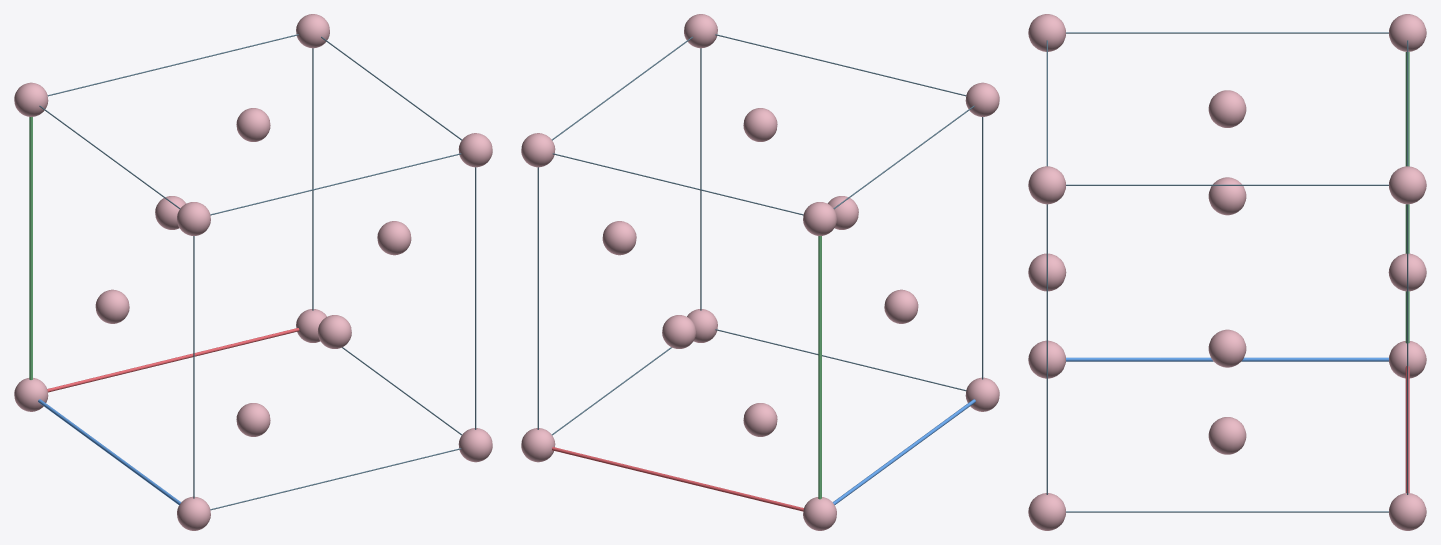
File: nguyen-to-sr.glb
3 views of the same model, side by side, from view 1: azimuth 30°, elevation 25°; view 2: azimuth 150°, elevation 25°; view 3: azimuth 270°, elevation 25° (orthographic). The views are drawn at different scales.
Visible parts, largest first — view 1: Sr · Sr · 1 (×14), Ô mạng và các trục a, b, c; view 2: Sr · Sr · 1 (×14), Ô mạng và các trục a, b, c; view 3: Sr · Sr · 1 (×14), Ô mạng và các trục a, b, c.
Part boxes in pixels (<box>): Sr · Sr · 1 (×14): <box>14,14,492,530</box>; Ô mạng và các trục a, b, c: <box>29,34,476,510</box>; Sr · Sr · 1 (×14): <box>521,14,999,530</box>; Ô mạng và các trục a, b, c: <box>537,34,983,511</box>; Sr · Sr · 1 (×14): <box>1028,14,1426,530</box>; Ô mạng và các trục a, b, c: <box>1046,32,1409,512</box>.
Size of the model in its own units: 6.72 by 6.72 by 6.72.
